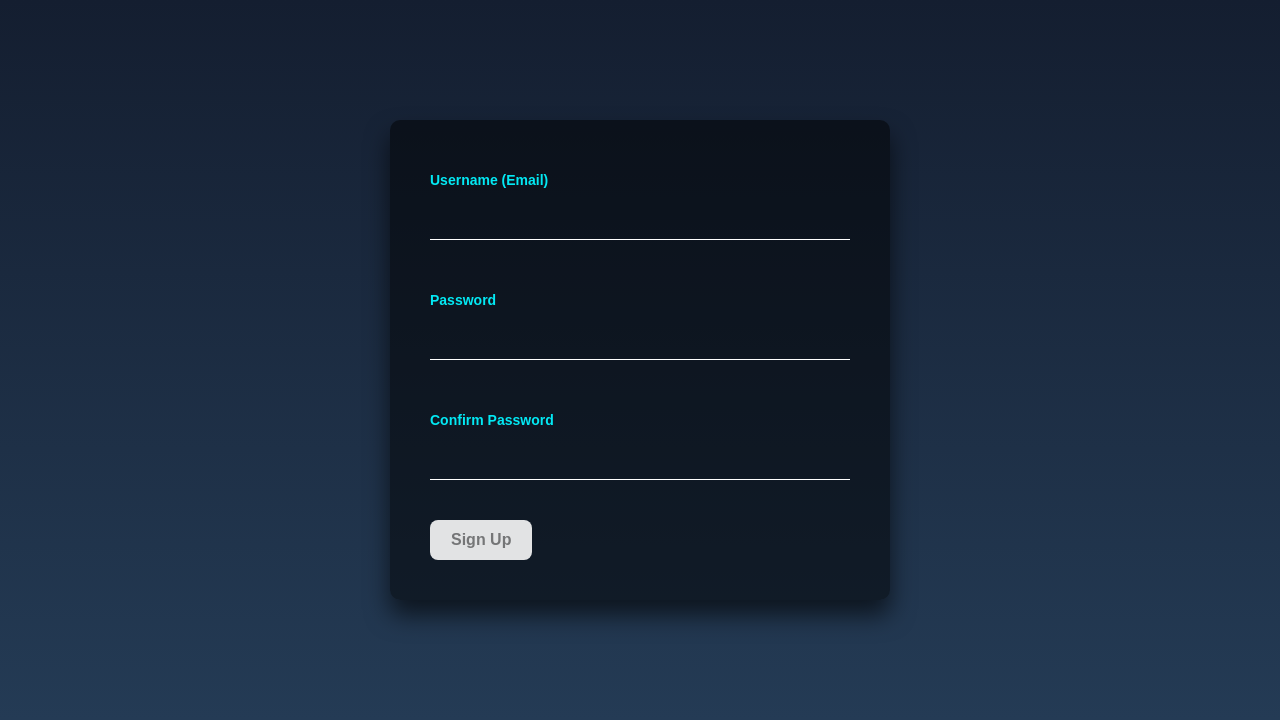
Test case: Signup › Form Field Validation › invalid password error message should show when password input has no capital letter
The width and height of the screenshot is (1280, 720).
Type "test@test.com" into the field labelled "Username (Email)" at [640, 220], box [430, 201, 850, 240]
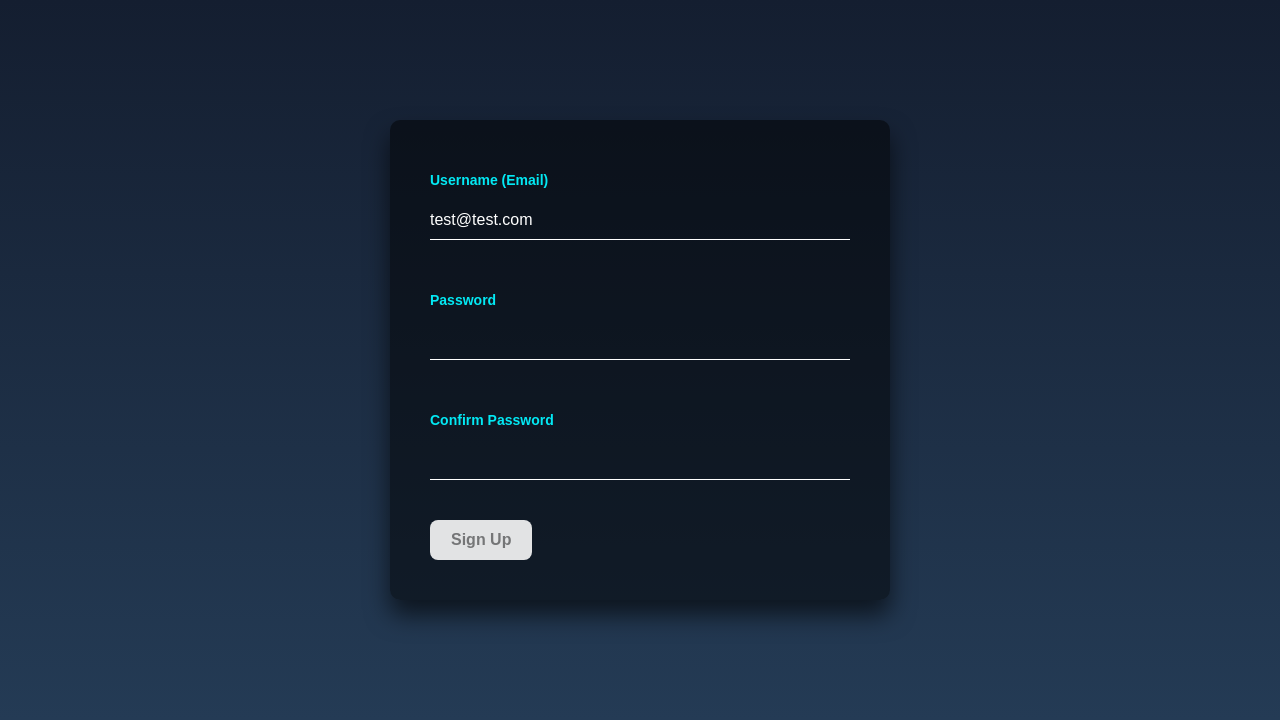
Type "pw123!" into the password field labelled "Password" at [640, 340], box [430, 321, 850, 360]
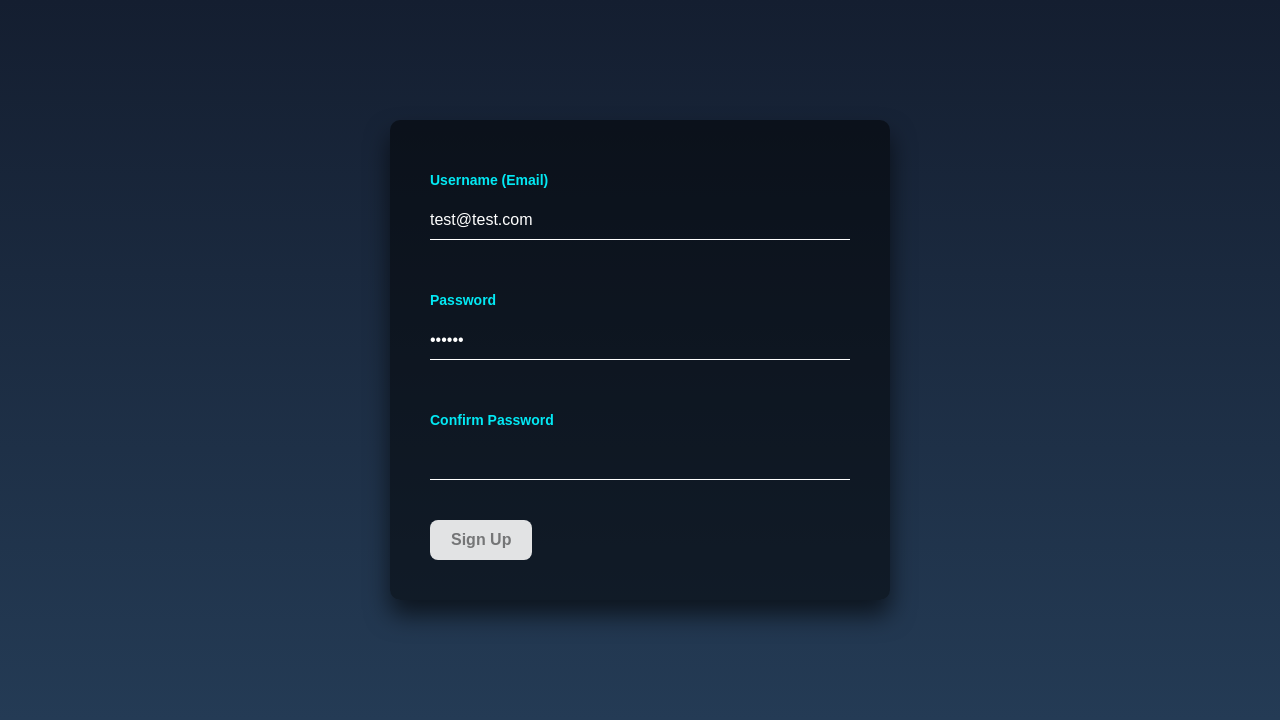
Type "pw123!" into the password field labelled "Confirm Password" at [640, 460], box [430, 441, 850, 480]
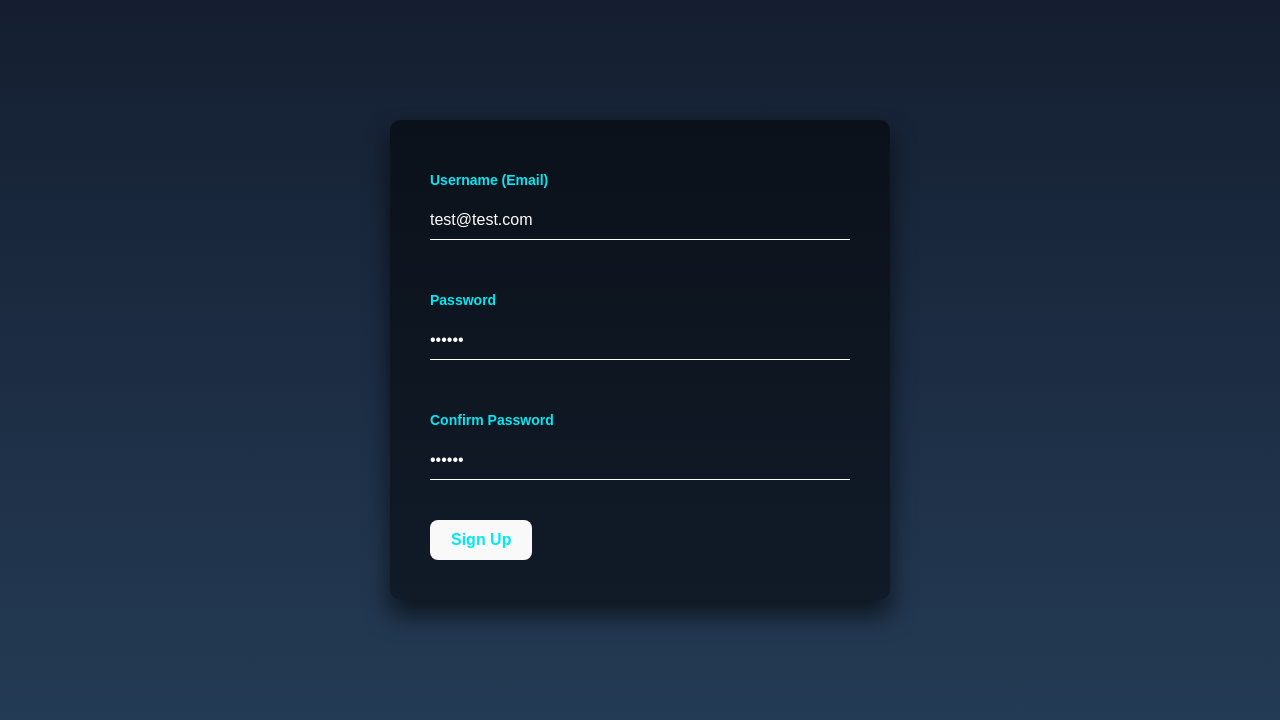
Click the button "Sign Up" at [481, 540], box [430, 520, 532, 560]
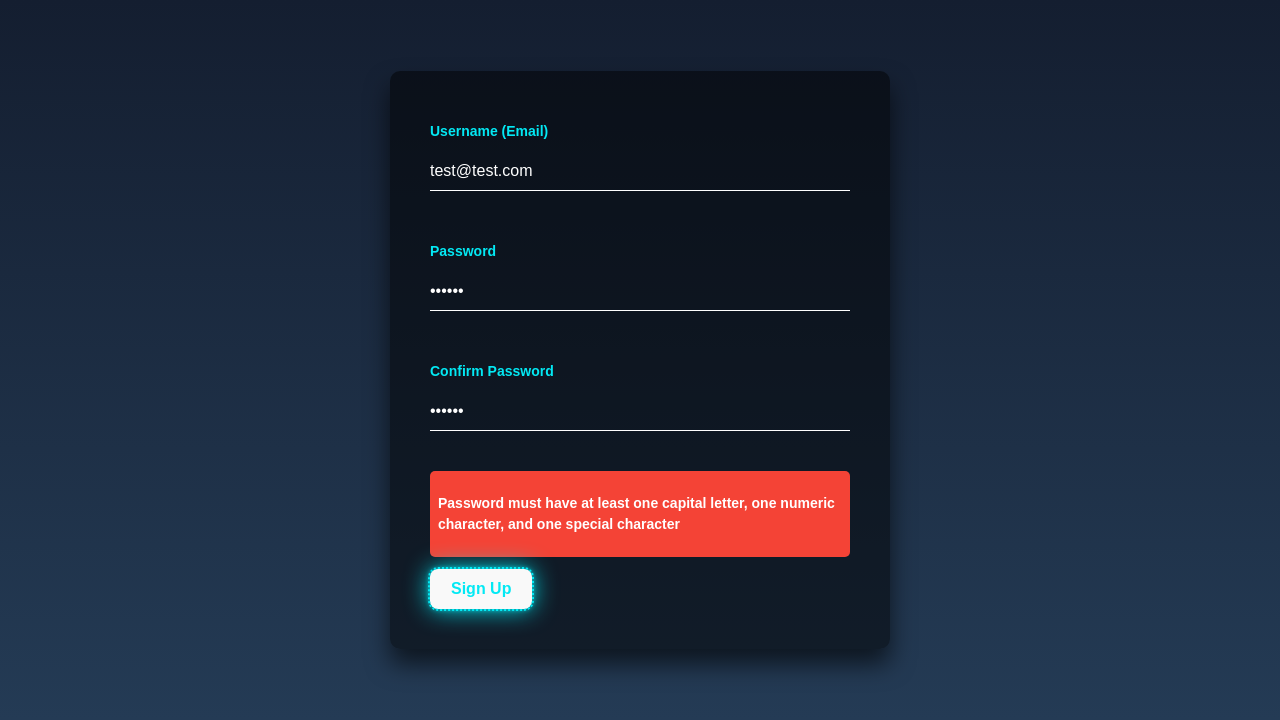
Check: the text "Password must have at least one capital letter, one numeric character, and one special character" is shown, box [438, 495, 835, 532]
